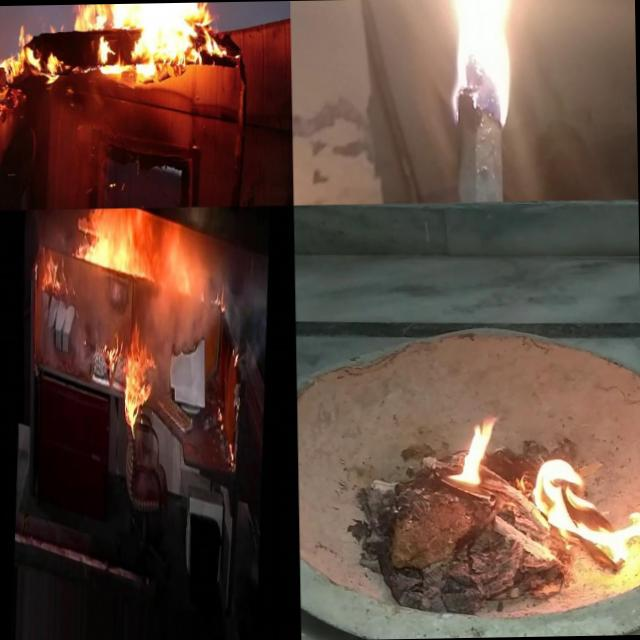fire: (527, 449, 640, 566), (68, 2, 222, 79), (437, 0, 536, 119), (0, 23, 67, 120), (82, 208, 152, 290), (119, 312, 156, 448), (443, 410, 506, 488), (38, 247, 71, 306), (98, 326, 121, 386)
smoke: (152, 280, 218, 384)
